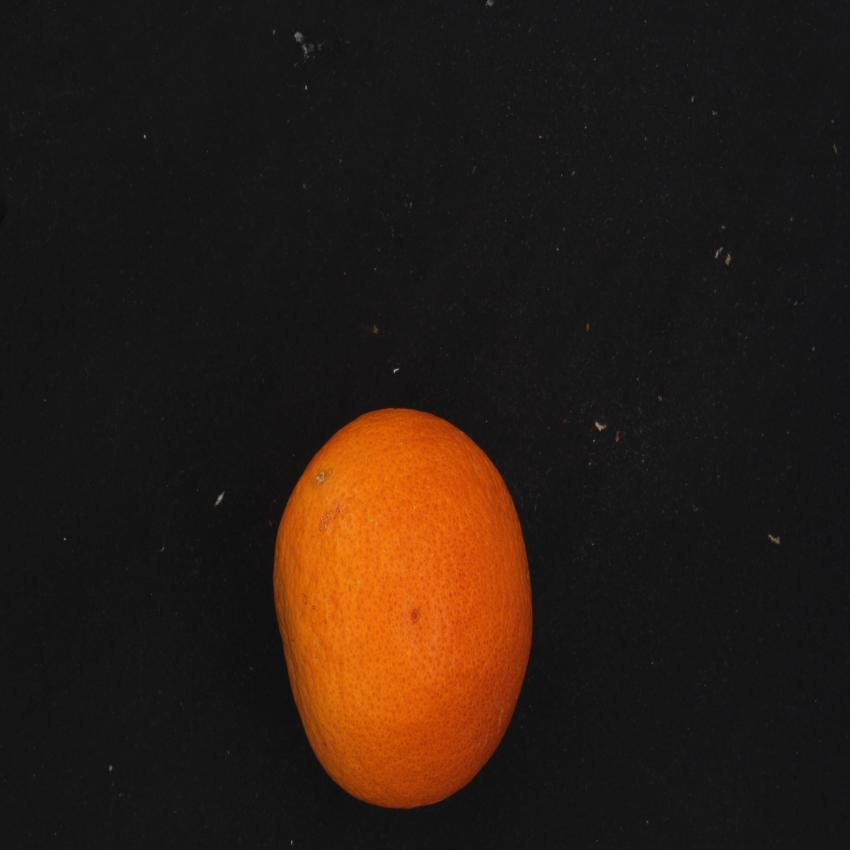Buen estado: (261, 393, 573, 818)
